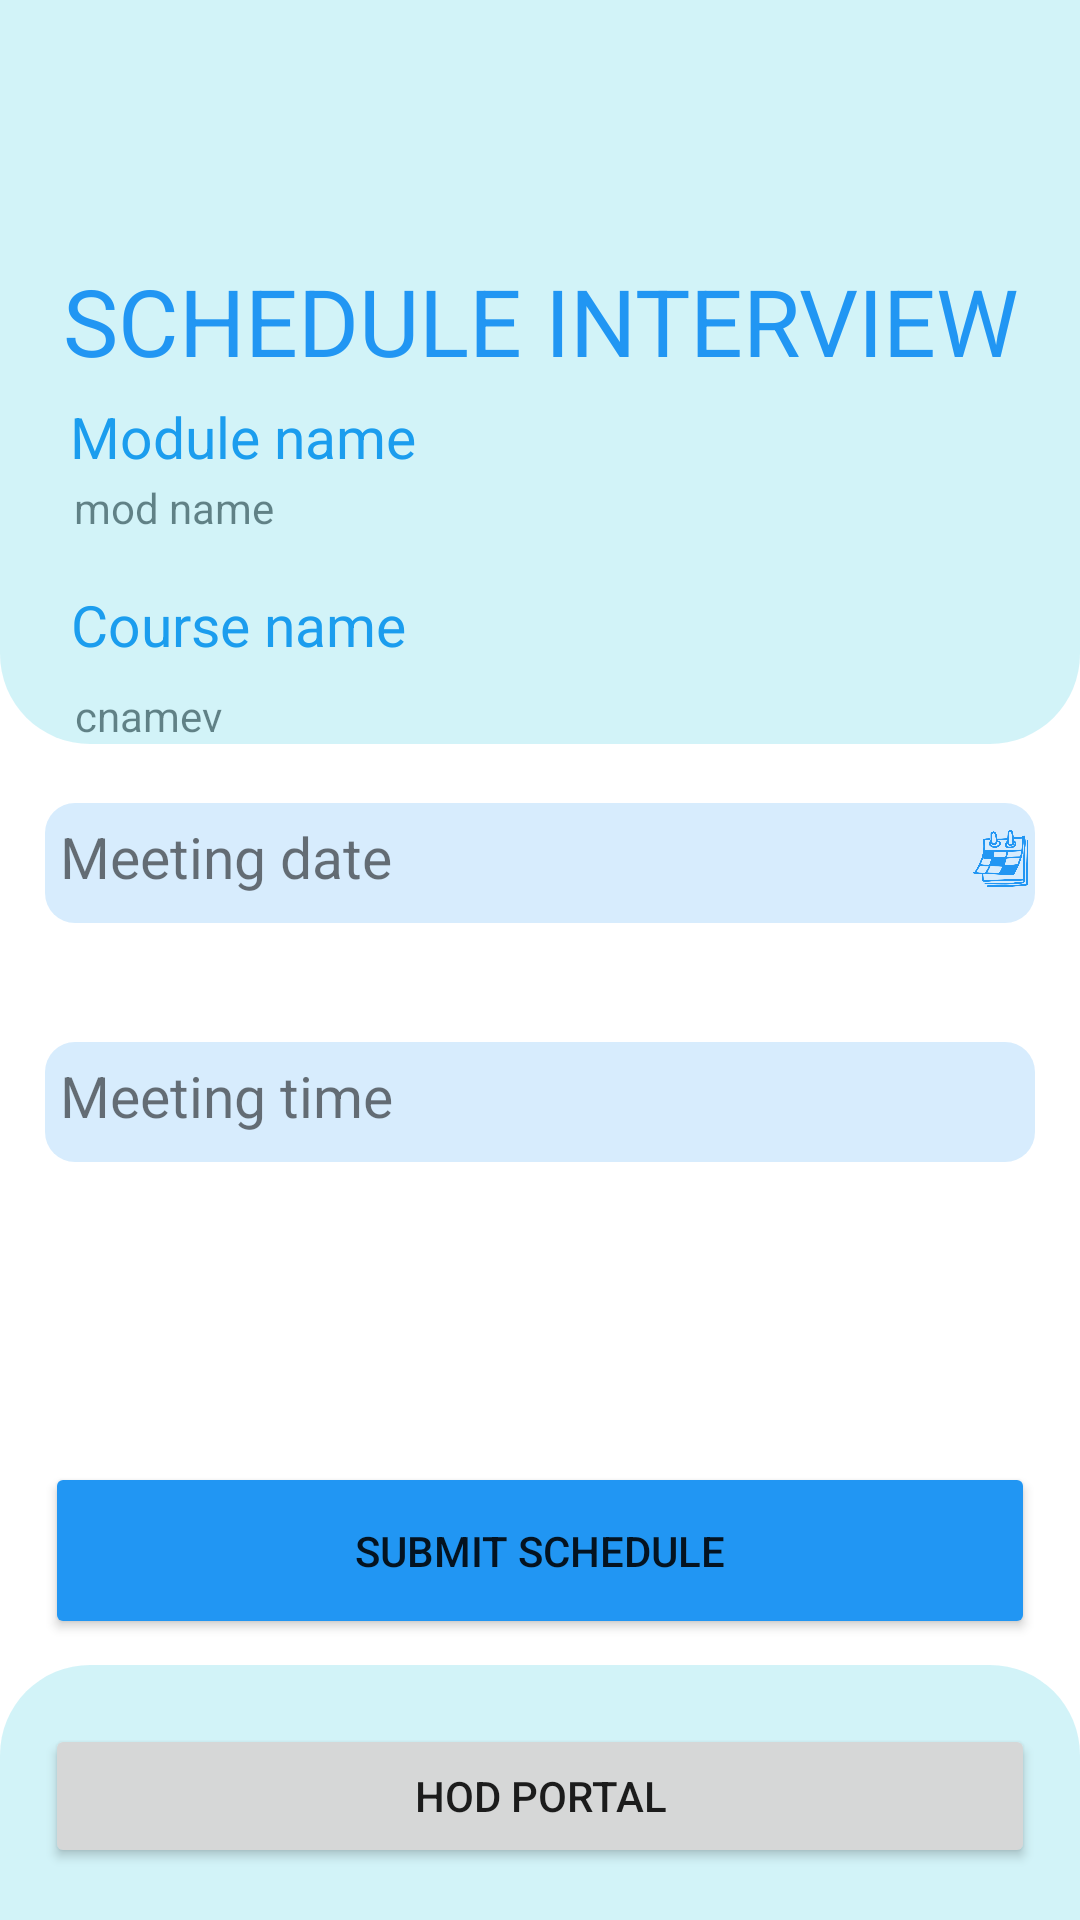

Icon click points for this 1080w x 1920h phone screenshot, format (x,y):
calender: (1000,858)
